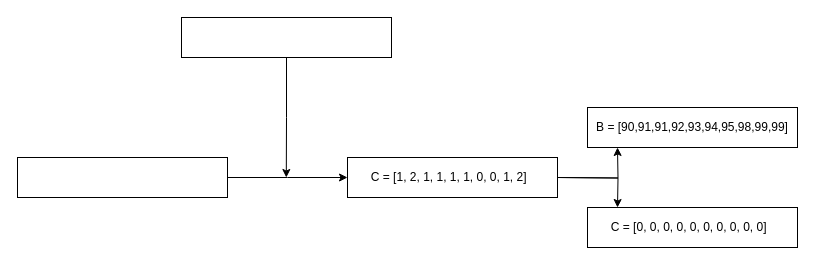
Image size: 815x265. Some labels were removed from this diagram. The shapes that lost their labels are listed below. From the top down, each one's centre as x and y in pixels, then its label:
At point (286, 37): "A = [95,94,91,98,99,90,99,93,91,92]".
At point (122, 177): "C = [0, 0, 0, 0, 0, 0, 0, 0, 0]".
